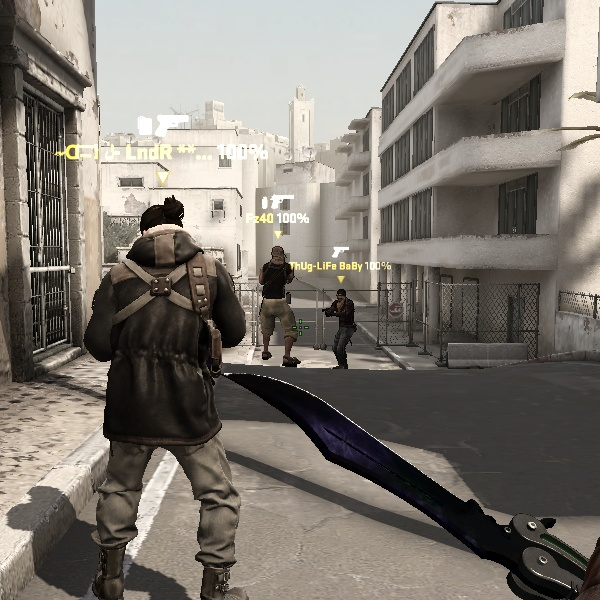t_body: (89, 193, 257, 598), (245, 239, 312, 374), (315, 288, 368, 371)
t_head: (133, 196, 196, 257), (266, 242, 291, 266), (333, 287, 351, 305)
